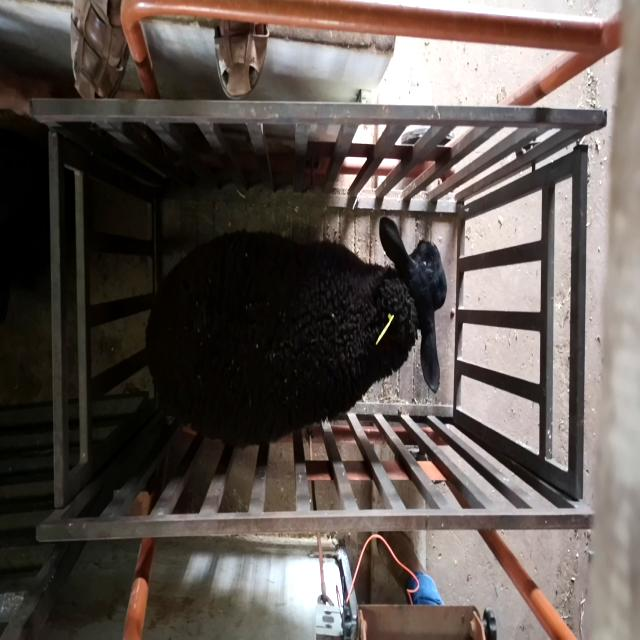sheep: (145, 217, 448, 447)
